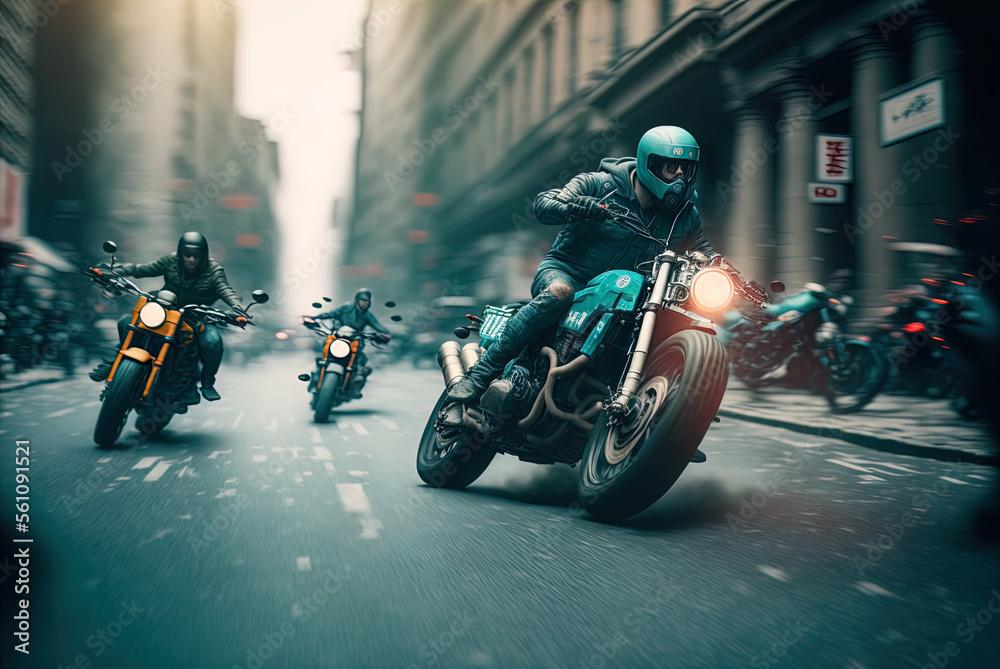helmet: (636, 125, 701, 213), (176, 230, 209, 276), (354, 287, 372, 314)
